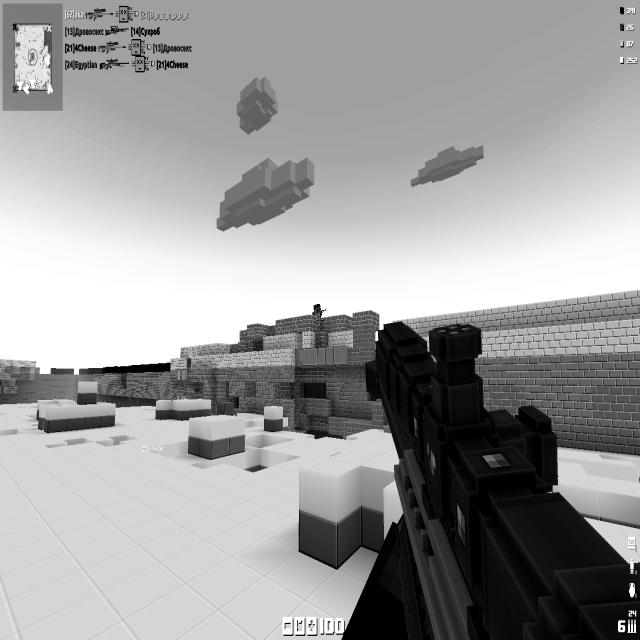Head: (313, 305, 321, 312)
Player: (312, 304, 322, 318)
